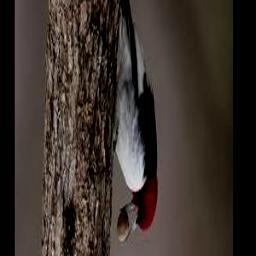Woodpecker: (113, 0, 158, 244)
